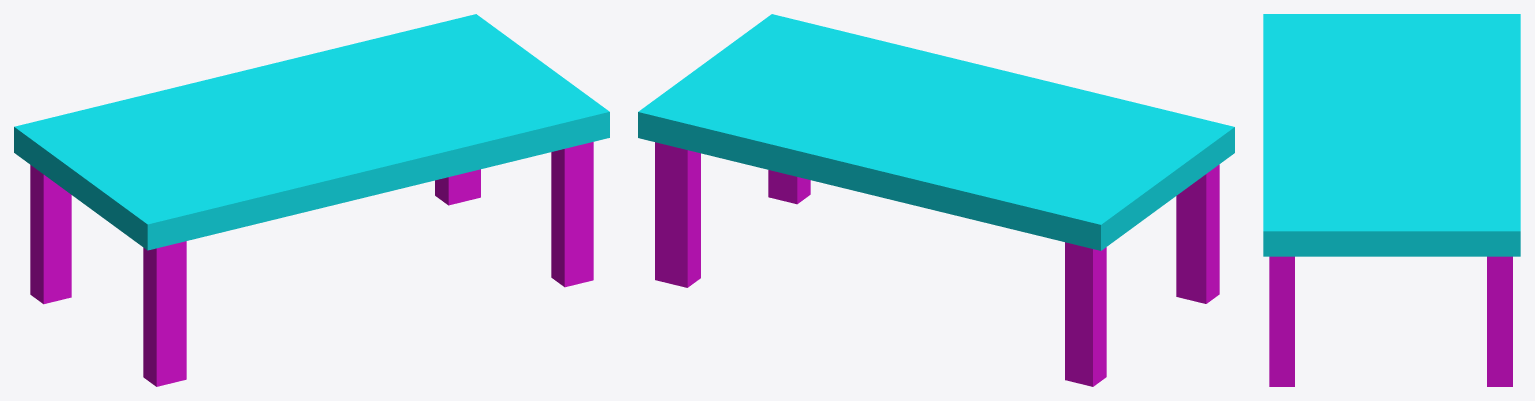
File: Long_Table.gltf
3 views of the same model, side by side, from view 1: azimuth 30°, elevation 25°; view 2: azimuth 150°, elevation 25°; view 3: azimuth 270°, elevation 25° (orthographic). The views are drawn at different scales.
Parts seen in each view (by area): view 1: Long_Table; view 2: Long_Table; view 3: Long_Table.
Boxes of the visible parts, x1,y1,x2,y2 form: Long_Table: [14, 14, 609, 386]; Long_Table: [638, 14, 1234, 386]; Long_Table: [1263, 14, 1520, 386].
Size of the model in its own units: 7.29 by 2.53 by 3.65.
